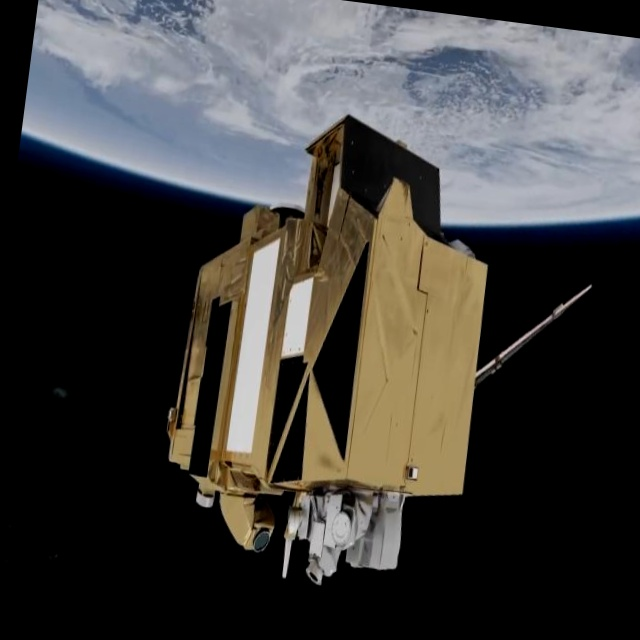satellite: (145, 80, 628, 623)
